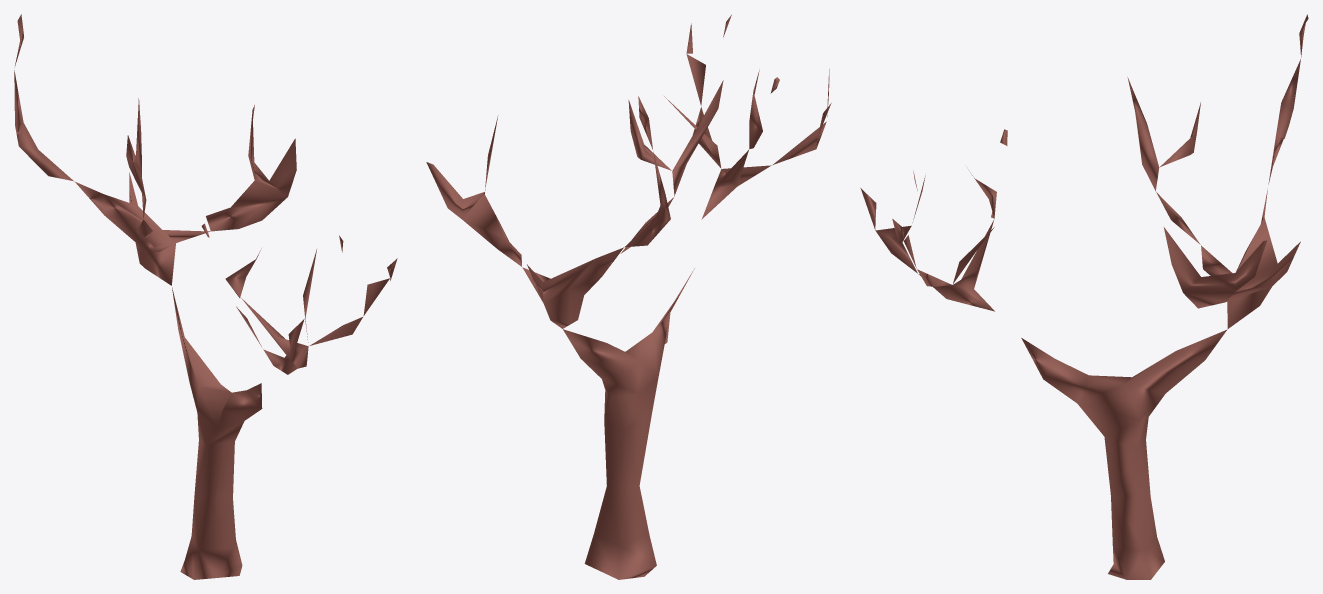
The model's file is CommonTree_Dead_1_lod.glb.
The picture shows the model from 3 angles, left to right: view 1: azimuth 30°, elevation 25°; view 2: azimuth 150°, elevation 25°; view 3: azimuth 270°, elevation 25°; orthographic projection. The views are drawn at different scales.
Parts seen in each view (by area): view 1: CommonTree_Dead_1; view 2: CommonTree_Dead_1; view 3: CommonTree_Dead_1.
Boxes of the visible parts, x1,y1,x2,y2 form: CommonTree_Dead_1: (14,14,397,579); CommonTree_Dead_1: (426,14,831,579); CommonTree_Dead_1: (860,14,1308,579).
Bounding box in the file's own units: 103 × 222 × 179.
